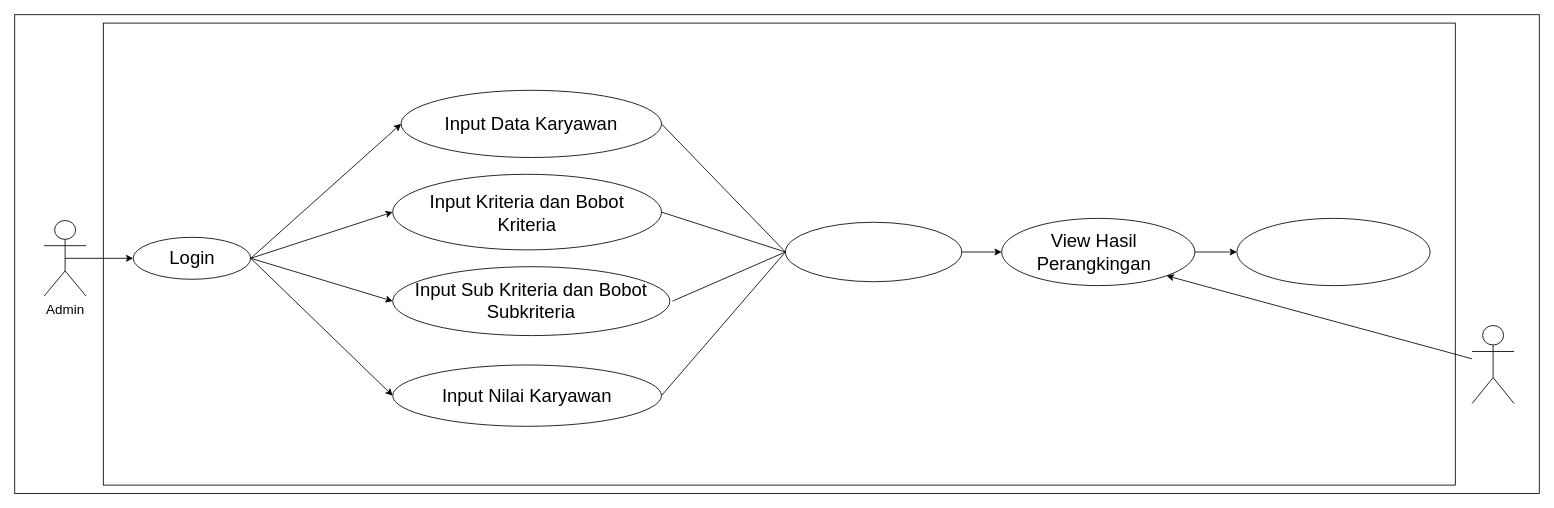
Some shapes in this 1554 by 508 pixel diagram are drawn without their labels. The shapes that lost their labels are listed below. From the top down, each one's centre as x and y in pixels, then its label:
pixel 873 251: MAUT
pixel 1333 252: Cetak Laporan
pixel 1492 364: User
